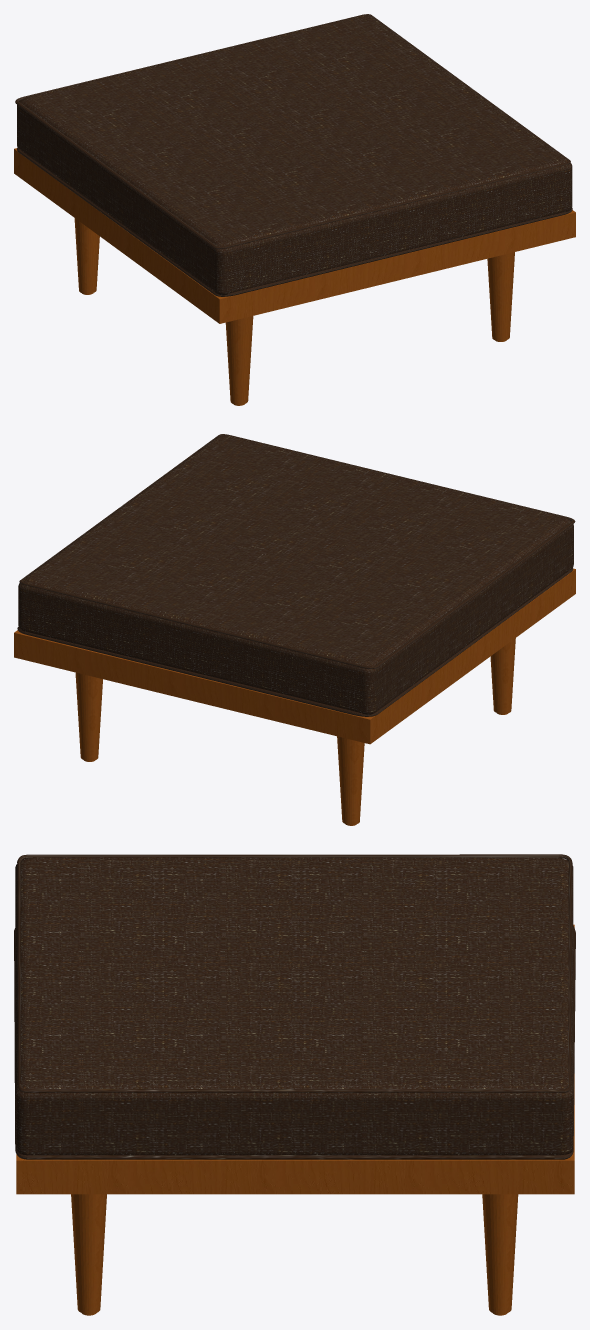
Rendered from ottoman2.glb.
3 renders of one model, top to bottom at view 1: azimuth 30°, elevation 25°; view 2: azimuth 150°, elevation 25°; view 3: azimuth 270°, elevation 25°, orthographic. The views are drawn at different scales.
Visible parts, largest first — view 1: Cylinder.005, Plane.004, Cylinder.024, Cylinder.025, Cylinder.022; view 2: Cylinder.005, Plane.004, Cylinder.022, Cylinder.023, Cylinder.025; view 3: Cylinder.005, Plane.004, Cylinder.023, Cylinder.024.
Part boxes in pixels (<box>): Cylinder.005: <box>15,14,572,296</box>; Plane.004: <box>14,148,575,323</box>; Cylinder.024: <box>487,252,514,341</box>; Cylinder.025: <box>225,316,253,405</box>; Cylinder.022: <box>74,218,99,294</box>; Cylinder.005: <box>17,434,575,716</box>; Plane.004: <box>14,568,575,744</box>; Cylinder.022: <box>337,736,364,825</box>; Cylinder.023: <box>75,672,102,761</box>; Cylinder.025: <box>490,638,515,714</box>; Cylinder.005: <box>14,854,575,1159</box>; Plane.004: <box>16,924,574,1194</box>; Cylinder.023: <box>482,1194,518,1315</box>; Cylinder.024: <box>71,1194,106,1315</box>.
Size of the model in its own units: 0.769 by 0.3827 by 0.7672.
2 materials, 2 textured.
